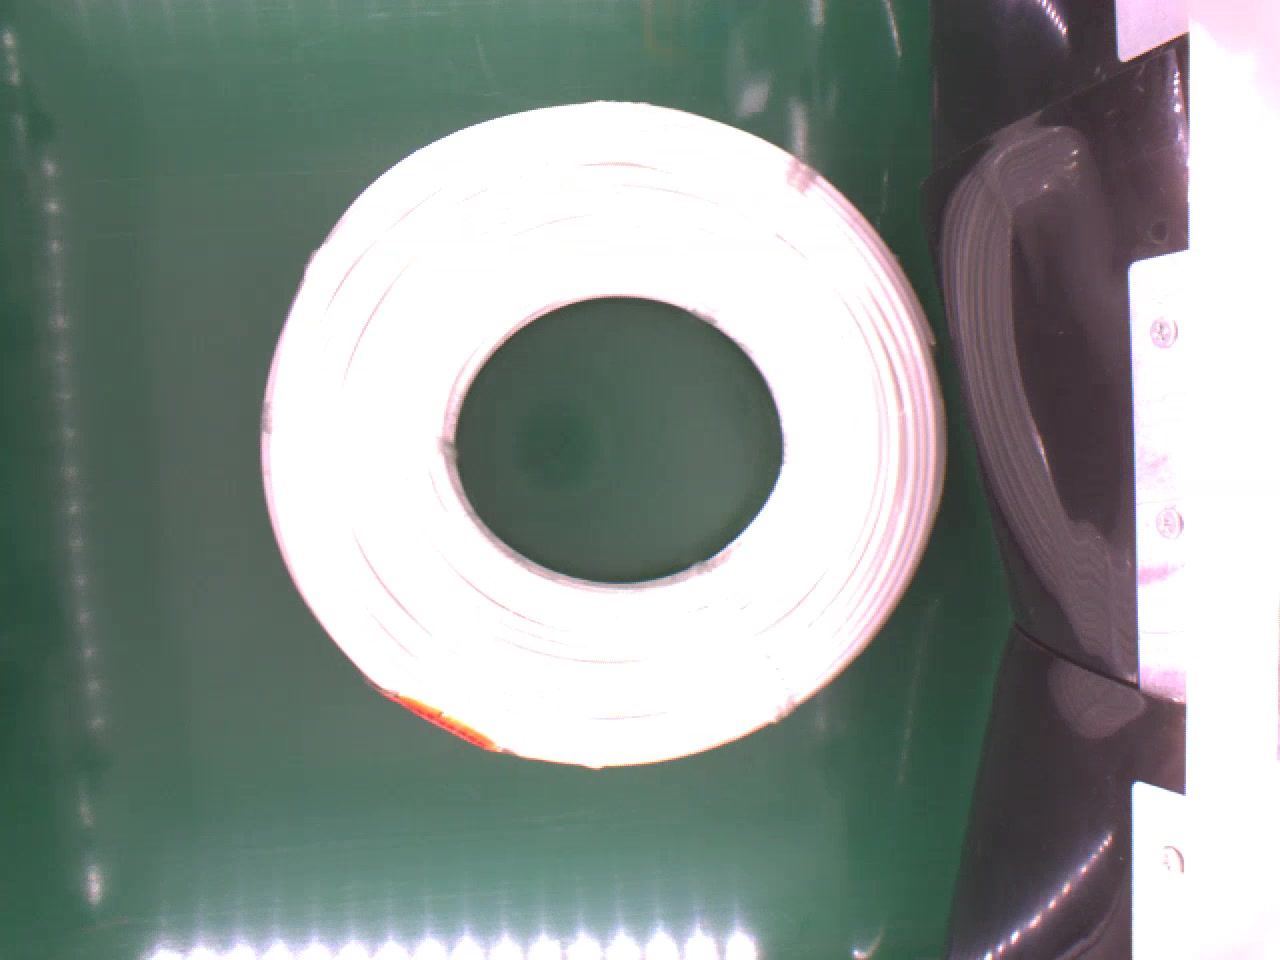white: (256, 95, 949, 773)
